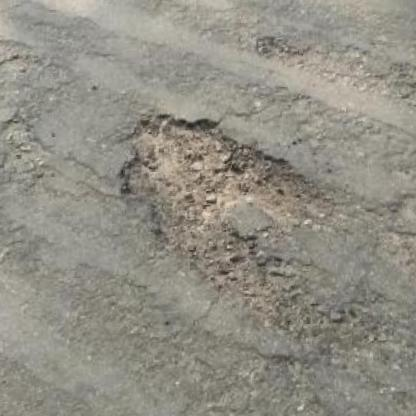pothole: (110, 99, 337, 327)
